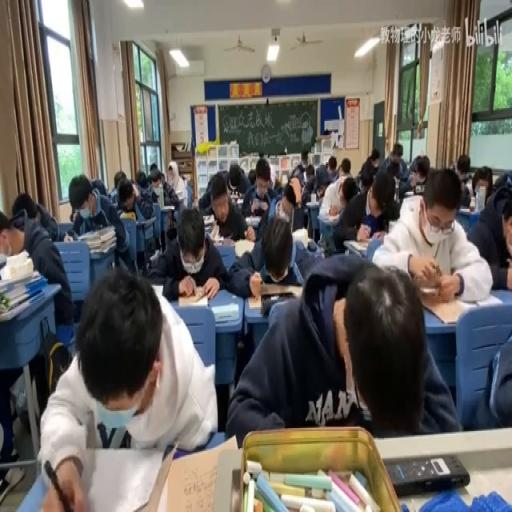calculator: (158, 436, 237, 512), (418, 294, 471, 326), (248, 284, 302, 308), (178, 287, 210, 306), (210, 302, 238, 322), (233, 236, 254, 256), (342, 238, 368, 254), (206, 223, 224, 243), (291, 259, 304, 284), (134, 215, 156, 226), (473, 296, 497, 306), (322, 209, 340, 222), (149, 283, 165, 297), (245, 215, 261, 226), (156, 184, 163, 208), (120, 209, 136, 219), (202, 213, 214, 225), (388, 220, 398, 234), (458, 205, 474, 213), (149, 248, 159, 260), (306, 198, 319, 206), (62, 232, 74, 240), (233, 196, 242, 205), (160, 205, 174, 210), (403, 191, 414, 196)
paper: (227, 253, 457, 445), (39, 264, 215, 508), (372, 165, 493, 301), (2, 192, 75, 338), (148, 204, 234, 302), (234, 210, 318, 294), (69, 173, 128, 276), (466, 314, 511, 431), (334, 168, 393, 253), (242, 156, 278, 232), (198, 160, 248, 214), (273, 174, 304, 228), (448, 154, 474, 206), (402, 151, 430, 199), (486, 174, 512, 216), (11, 192, 40, 225), (166, 160, 187, 204), (0, 218, 24, 256), (357, 145, 380, 182), (471, 165, 493, 202), (298, 162, 316, 202), (386, 142, 407, 176), (117, 183, 136, 212), (382, 196, 400, 225), (314, 164, 330, 192), (341, 176, 356, 205), (90, 176, 107, 199), (148, 165, 161, 186), (134, 168, 148, 186), (112, 171, 125, 189), (228, 172, 240, 191), (290, 165, 302, 181), (340, 158, 350, 176), (110, 186, 118, 204), (247, 168, 257, 182), (360, 180, 370, 194), (328, 158, 337, 173), (274, 174, 282, 189), (68, 206, 74, 222), (301, 149, 308, 162)
person: (386, 454, 470, 496)
